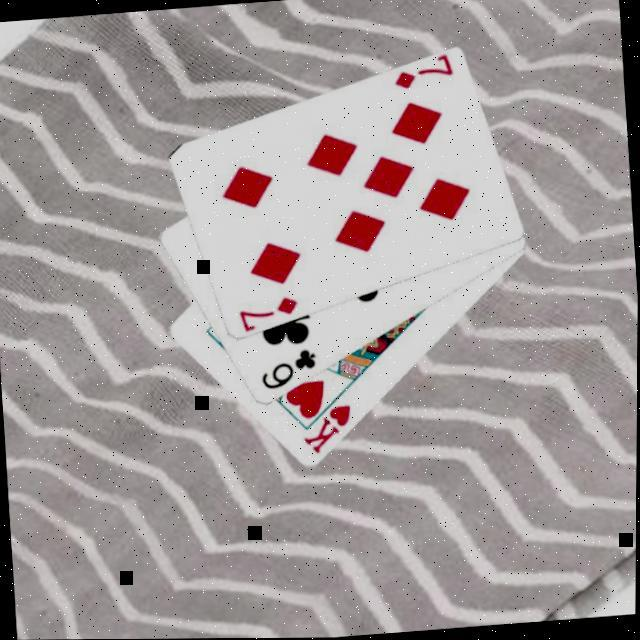6C: (256, 344, 320, 392)
7D: (234, 293, 300, 332), (388, 54, 454, 92)
KH: (297, 400, 356, 457)
